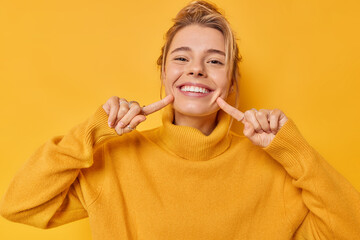teen: (144, 10, 247, 134)
